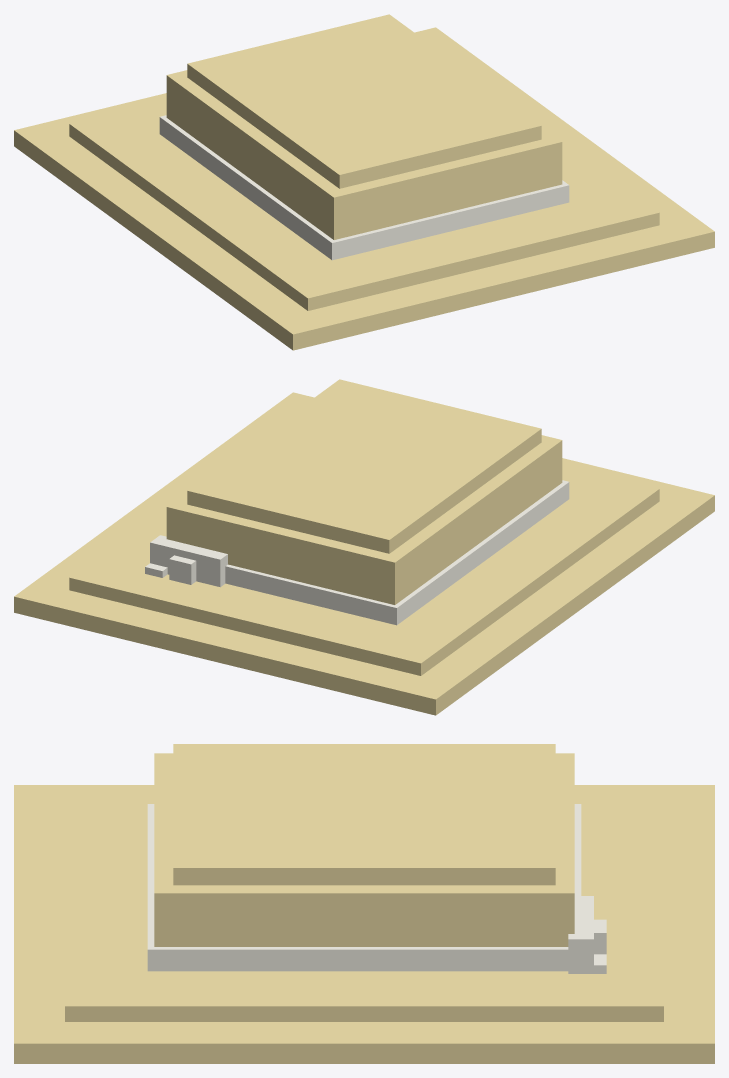
Rendered from chapeu_palha_verao.glb.
The picture shows the model from 3 angles, top to bottom: view 1: azimuth 30°, elevation 25°; view 2: azimuth 150°, elevation 25°; view 3: azimuth 270°, elevation 25°; orthographic projection. The views are drawn at different scales.
Visible parts, largest first — view 1: chapeu_palha_verao; view 2: chapeu_palha_verao; view 3: chapeu_palha_verao.
Boxes of the visible parts, box(x1,y1,x2,y2) form: chapeu_palha_verao: box(14, 14, 714, 350); chapeu_palha_verao: box(14, 379, 714, 715); chapeu_palha_verao: box(14, 744, 714, 1063).
Size of the model in its own units: 0.96 by 0.265 by 1.1.
